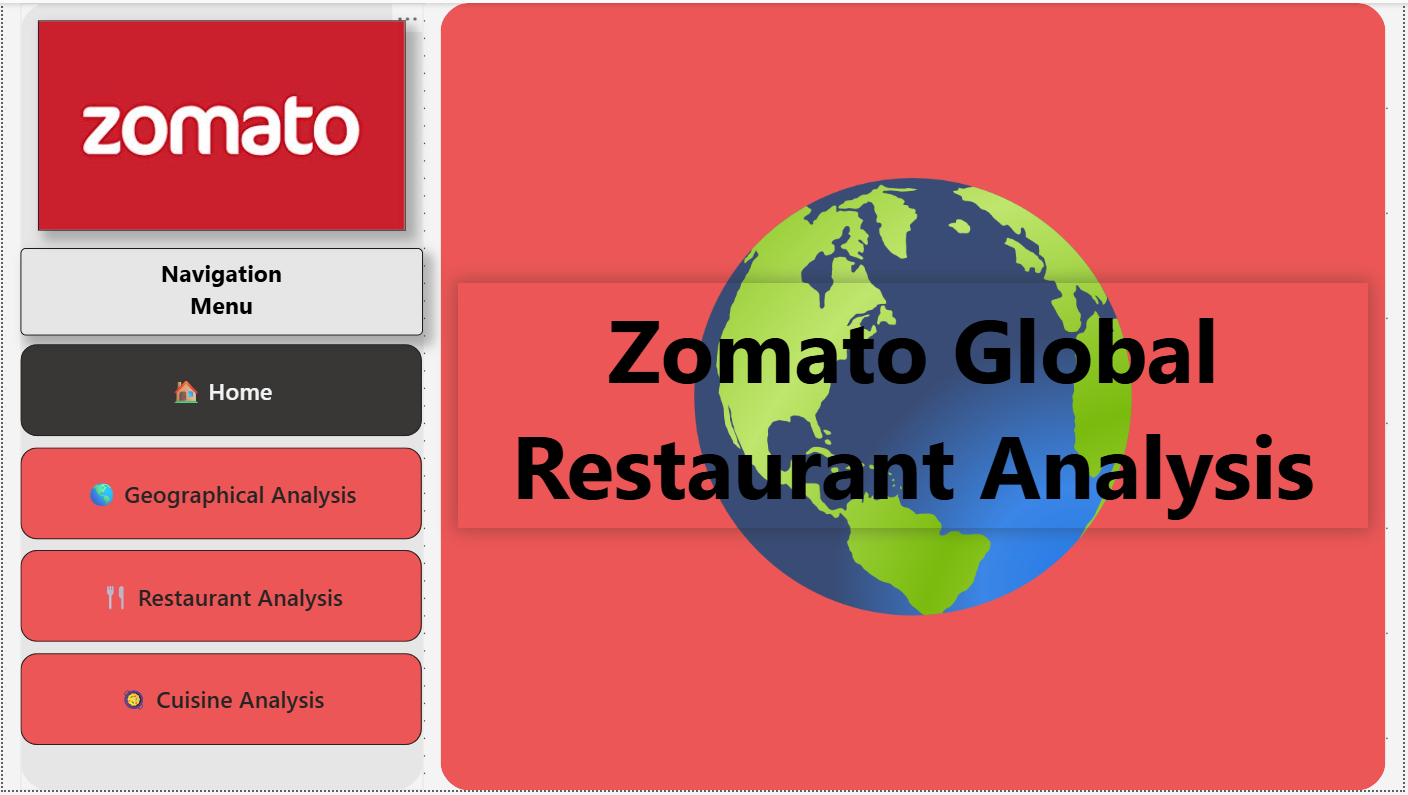

This screenshot's page, from the dashboard's own definition file:
{"tool":"powerbi","page":{"name":"🏠 Home","canvas":[1280,720],"ordinal":0},"visuals":[{"type":"shape","box":[400,0,864,720],"z":0},{"type":"group","id":"g1","title":"Group 1","box":[16,0,368,720],"z":1000},{"type":"pageNavigator","box":[16,312,367.5,367.5],"z":2000},{"type":"textbox","box":[16,224,368,80],"z":3000},{"type":"image","box":[528,160,608,400],"z":3500},{"type":"textbox","box":[416,256,832,224],"z":4000},{"type":"shape","box":[16,0,368,720],"z":7000,"group":"g1"},{"type":"image","box":[32,16,336,192],"z":7500,"group":"g1"}]}

Visuals, with their boxes on the page's 1280x720 design canvas (x1, y1, x2, y2). These are canvas units, not pixel positions in the 1408x795 screenshot, which may show the page scaled, cropped or inside an application window:
shape: crop(400, 0, 1264, 720)
"Group 1" group: crop(16, 0, 384, 720)
pageNavigator: crop(16, 312, 384, 680)
textbox: crop(16, 224, 384, 304)
image: crop(528, 160, 1136, 560)
textbox: crop(416, 256, 1248, 480)
shape: crop(16, 0, 384, 720)
image: crop(32, 16, 368, 208)
